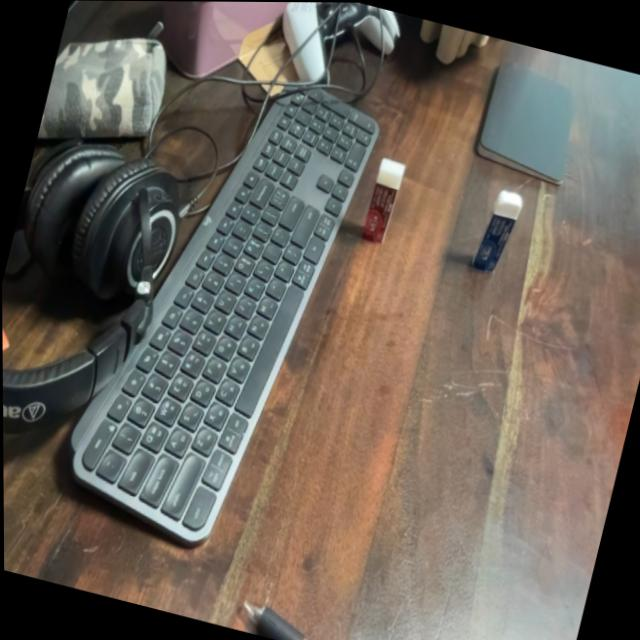blue: (468, 180, 526, 281)
red: (356, 149, 408, 249)
